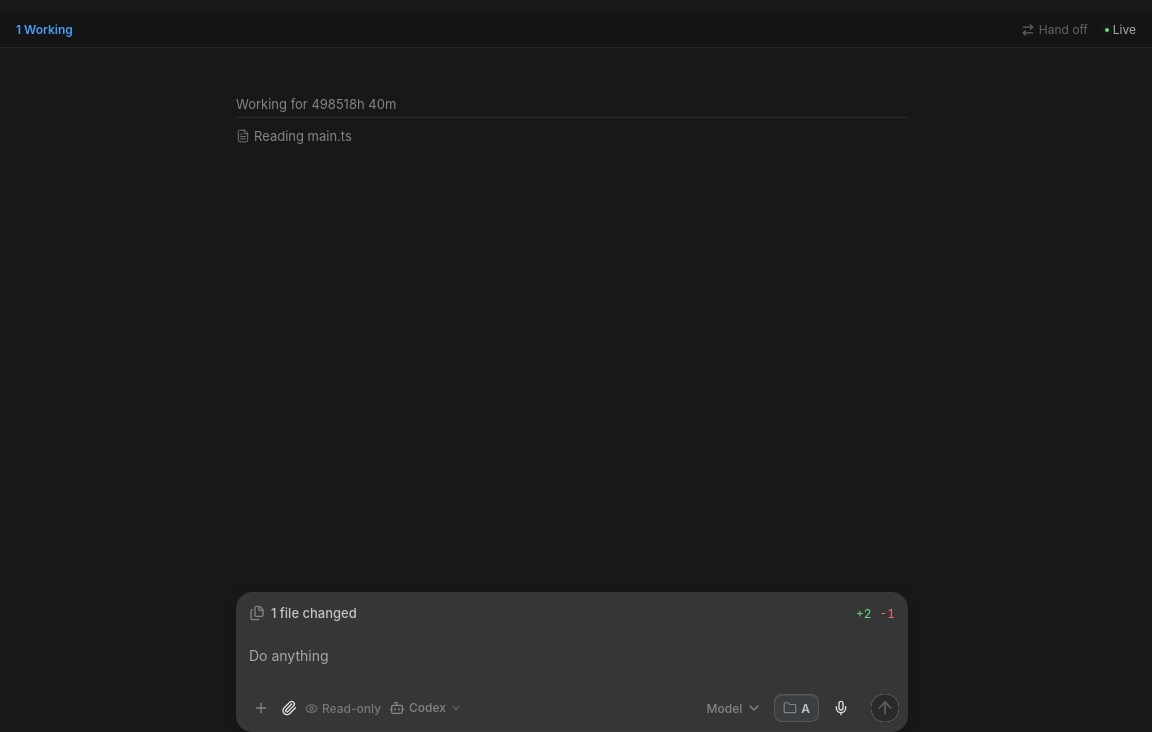
Test: ChatSurface ACP resource integration › keeps a queued row for retry when native deletion fails
Type "Keep this row" into the dropdown named "Message agent" at (572, 662), box [237,633,907,691]
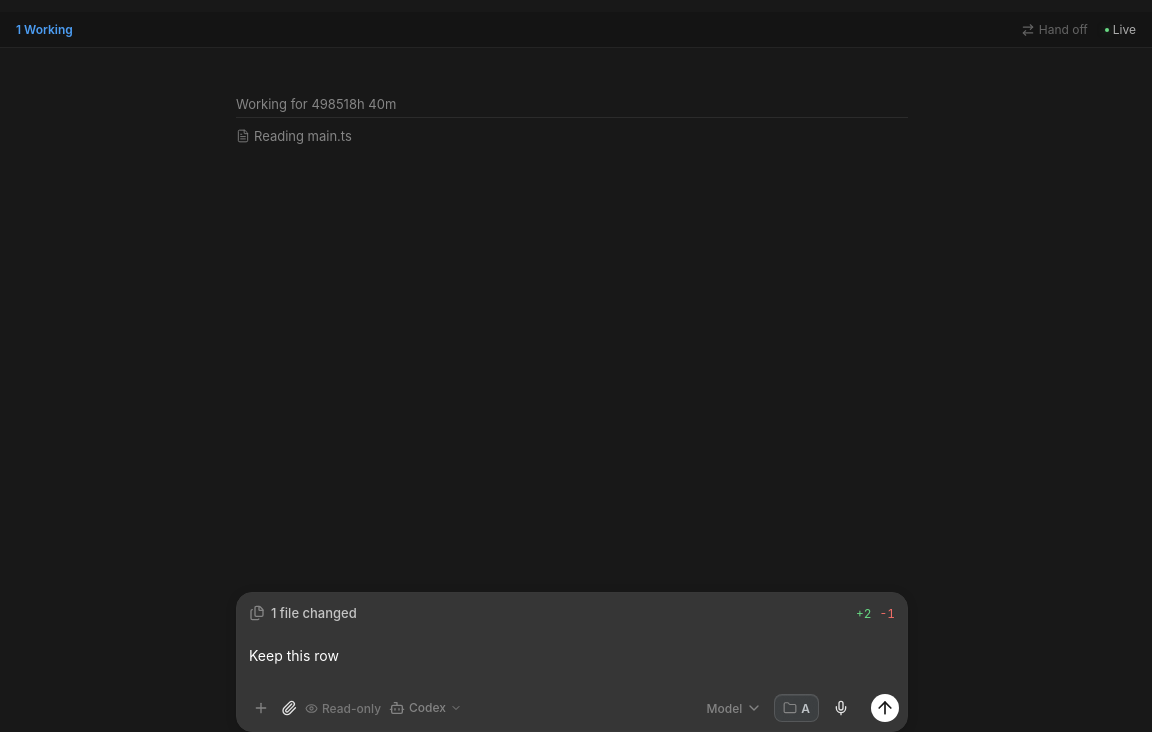
Click the button named "Queue message" at (885, 708), box [871,694,899,722]
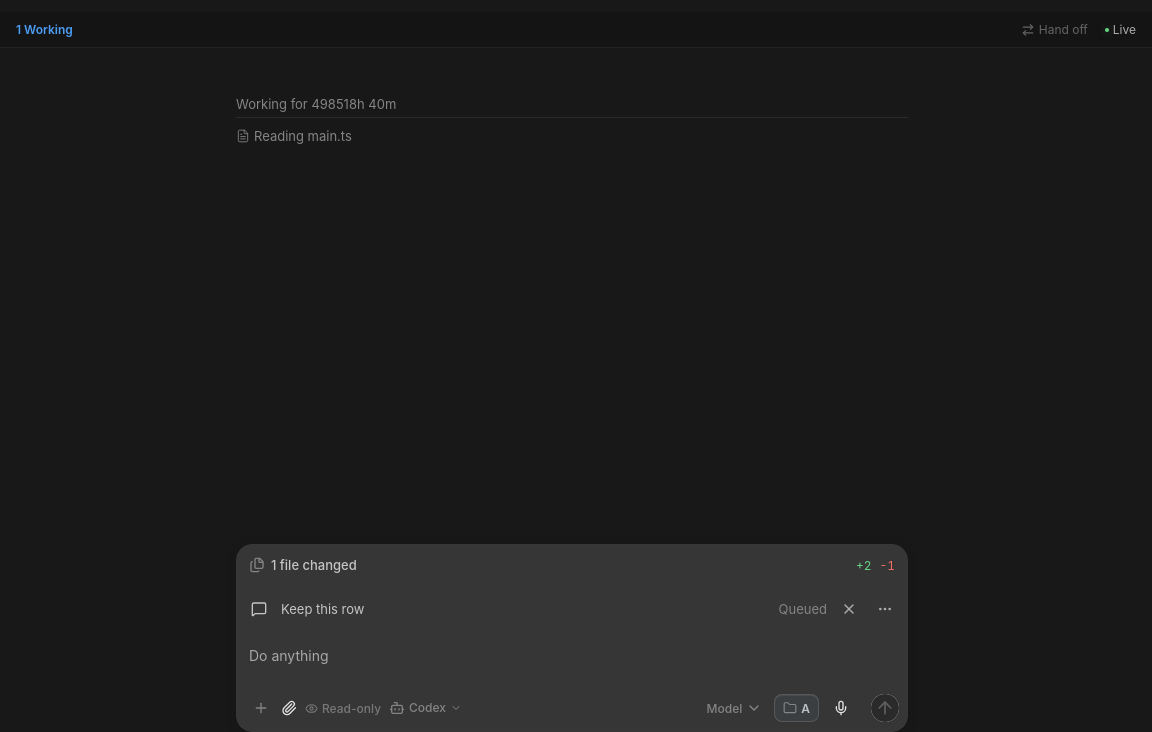
expect the text "Queued" is shown: met, box [779,601,827,617]
Click the button named "Delete queued message: Keep this row" at (849, 609), box [835,595,863,623]
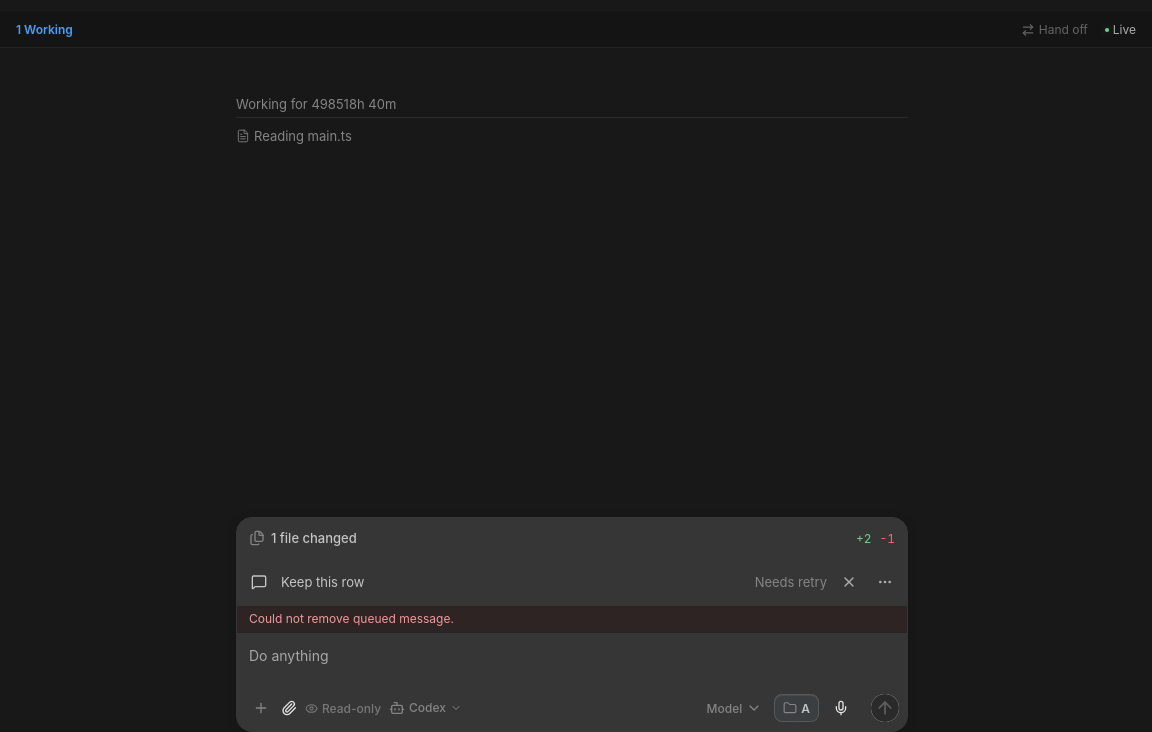
expect the text "Keep this row" is shown: met, box [281,574,364,590]
expect the text "Could not remove queued message." is shown: met, box [237,606,907,633]
expect the text "Needs retry" is shown: met, box [755,574,827,590]
